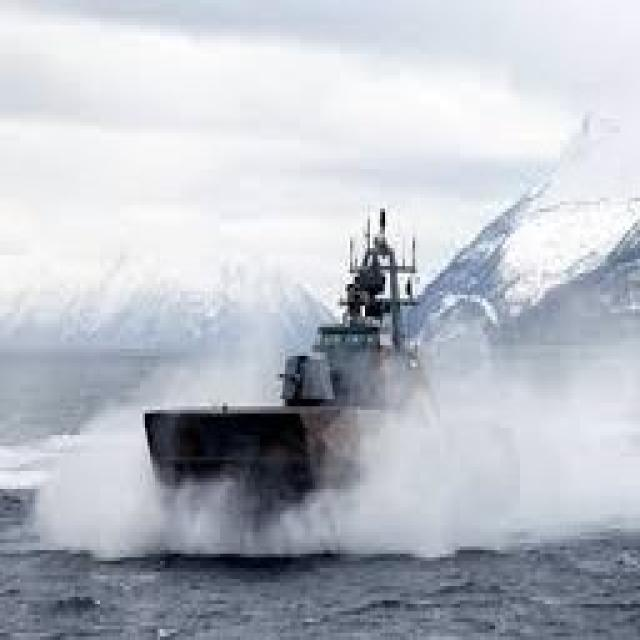navalvessels: (136, 154, 515, 521)
